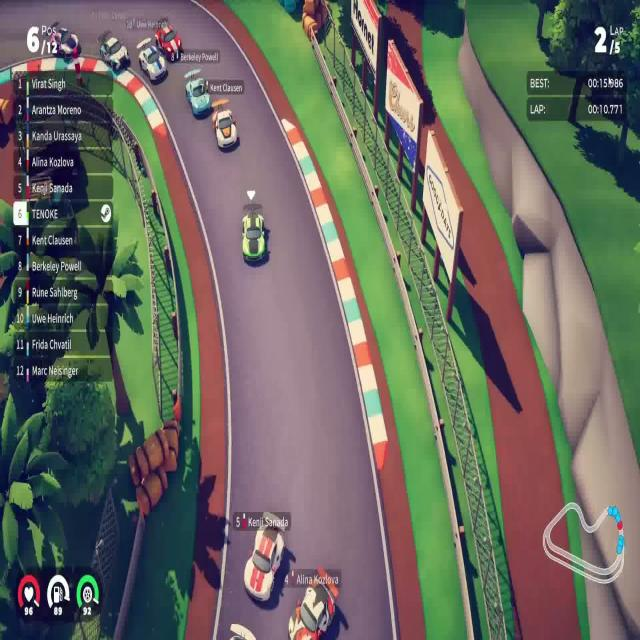car: (243, 520, 286, 602), (288, 581, 336, 639), (240, 207, 266, 263), (137, 39, 166, 84), (184, 70, 211, 118), (99, 33, 130, 72), (48, 24, 81, 60), (154, 22, 183, 62), (212, 105, 237, 150)
